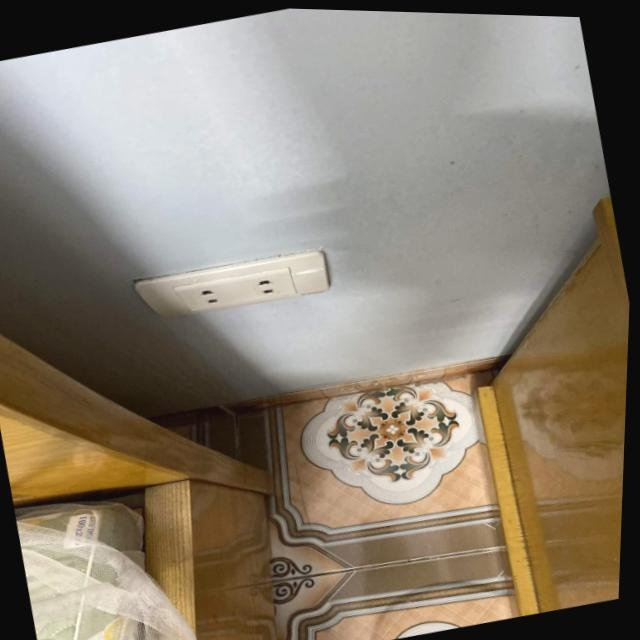outlet: (131, 240, 333, 331)
